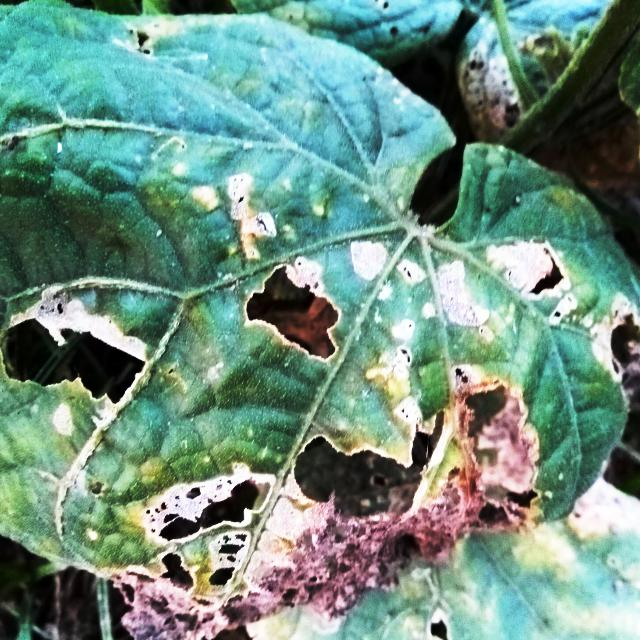Anthracnose: (291, 384, 539, 528), (118, 466, 274, 608), (0, 293, 148, 409), (235, 262, 351, 362), (516, 238, 585, 326)
